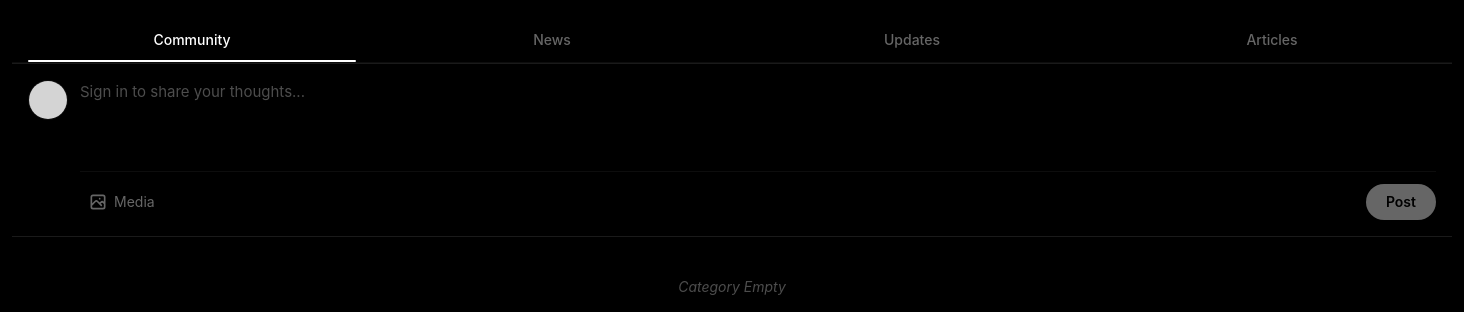
Scenario: FeedPage › shows category filter chips on News
Click the button "News" at {"x": 552, "y": 40}, box [372,18,732,62]
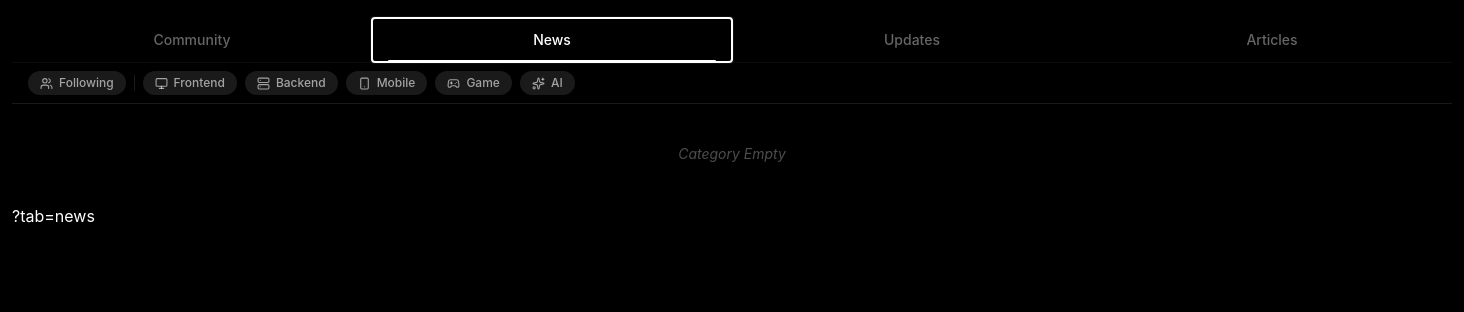
Expected: the button "AI" is shown, [520,71,575,95]
Expected: the button "Game" is shown, [435,71,512,95]
Expected: the button "Mobile" is shown, [346,71,427,95]
